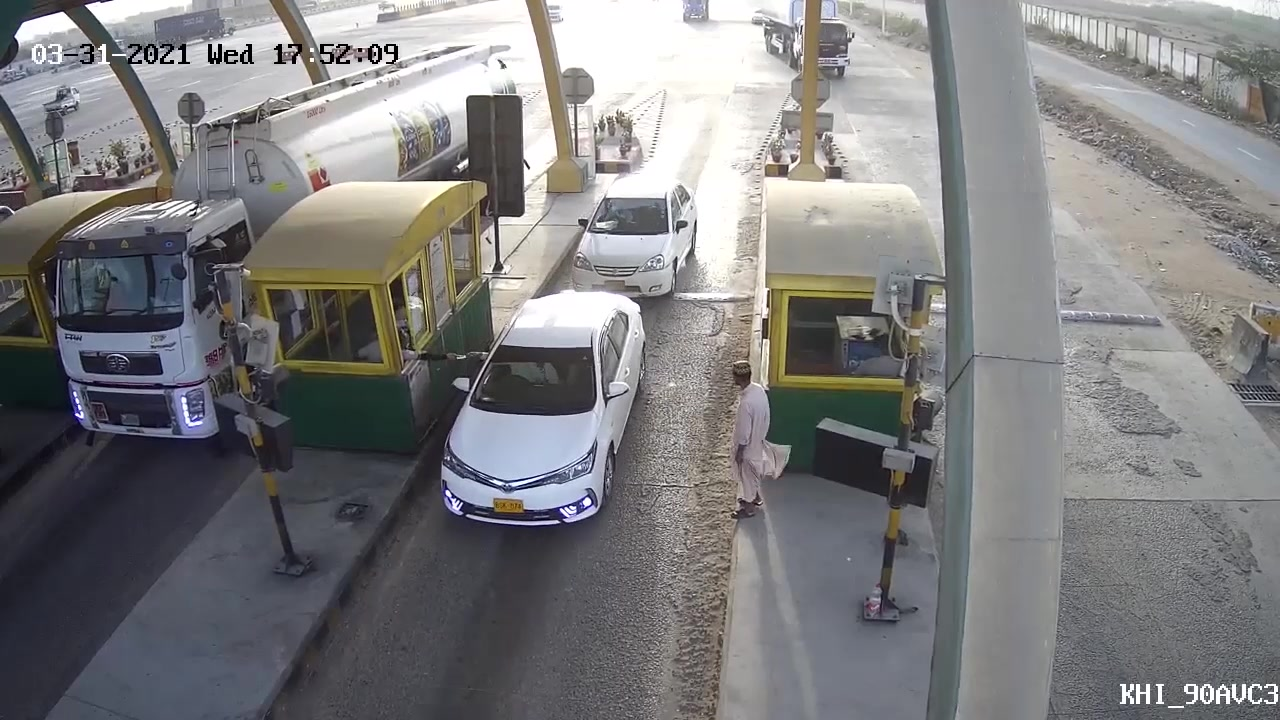F1: (418, 287, 653, 551), (566, 165, 705, 308)
